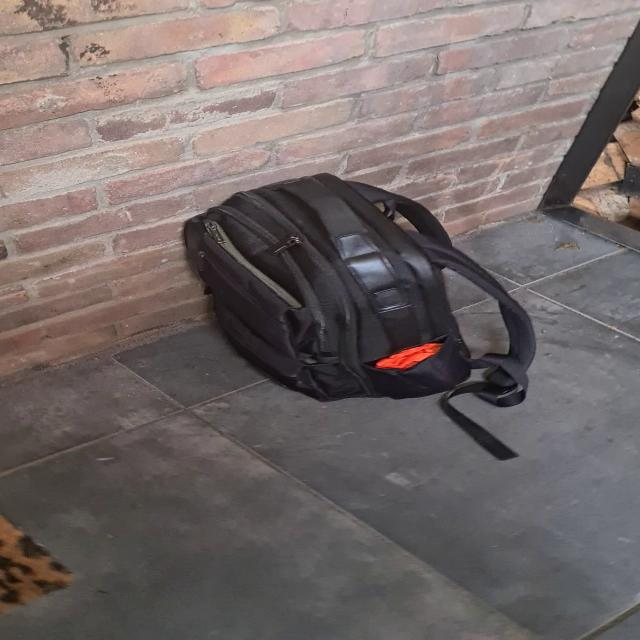backpack: (174, 165, 523, 409)
